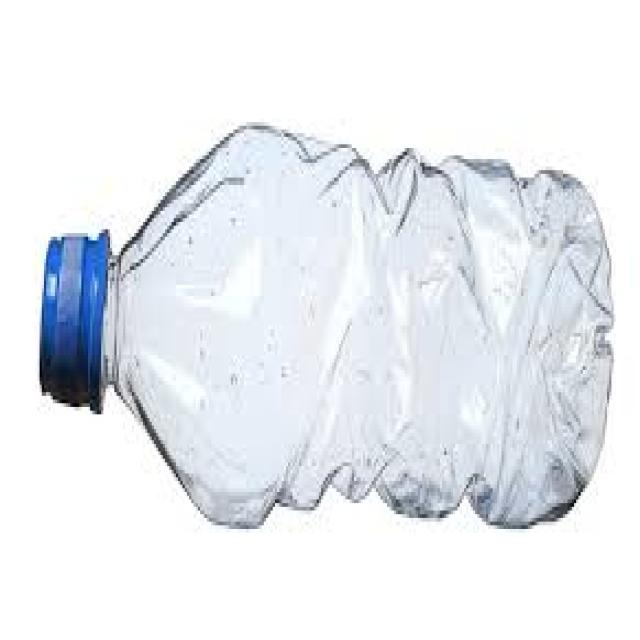plastic bottle: (33, 118, 627, 585)
